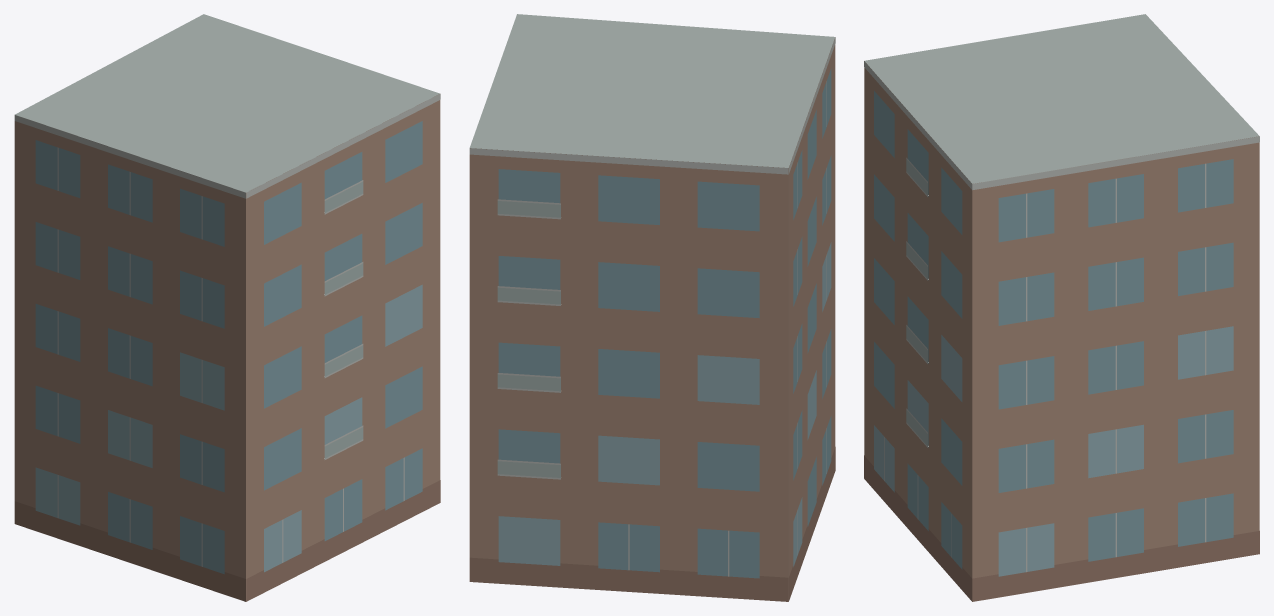
File: survey-upis-32981209.glb
The picture shows the model from 3 angles, left to right: view 1: azimuth 30°, elevation 25°; view 2: azimuth 150°, elevation 25°; view 3: azimuth 270°, elevation 25°; orthographic projection. The views are drawn at different scales.
Parts seen in each view (by area): view 1: survey-upis-32981209.tmp; view 2: survey-upis-32981209.tmp; view 3: survey-upis-32981209.tmp.
Part boxes in pixels (x1,y1,x2,y2): survey-upis-32981209.tmp: [14, 14, 440, 601]; survey-upis-32981209.tmp: [469, 14, 835, 601]; survey-upis-32981209.tmp: [864, 14, 1259, 601].
Size of the model in its own units: 14.14 by 16.2 by 13.91.
